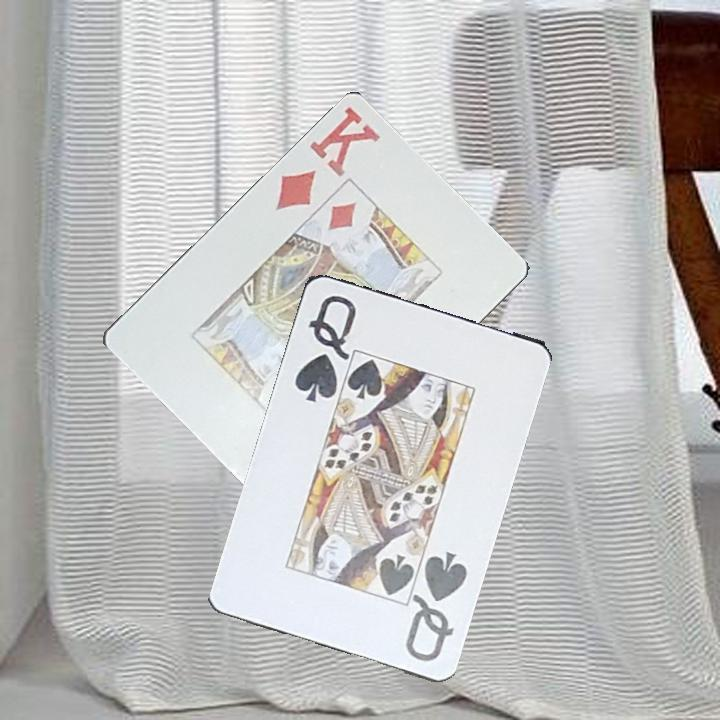Kd: (271, 104, 383, 214)
Qs: (401, 547, 470, 664), (290, 291, 359, 405)
